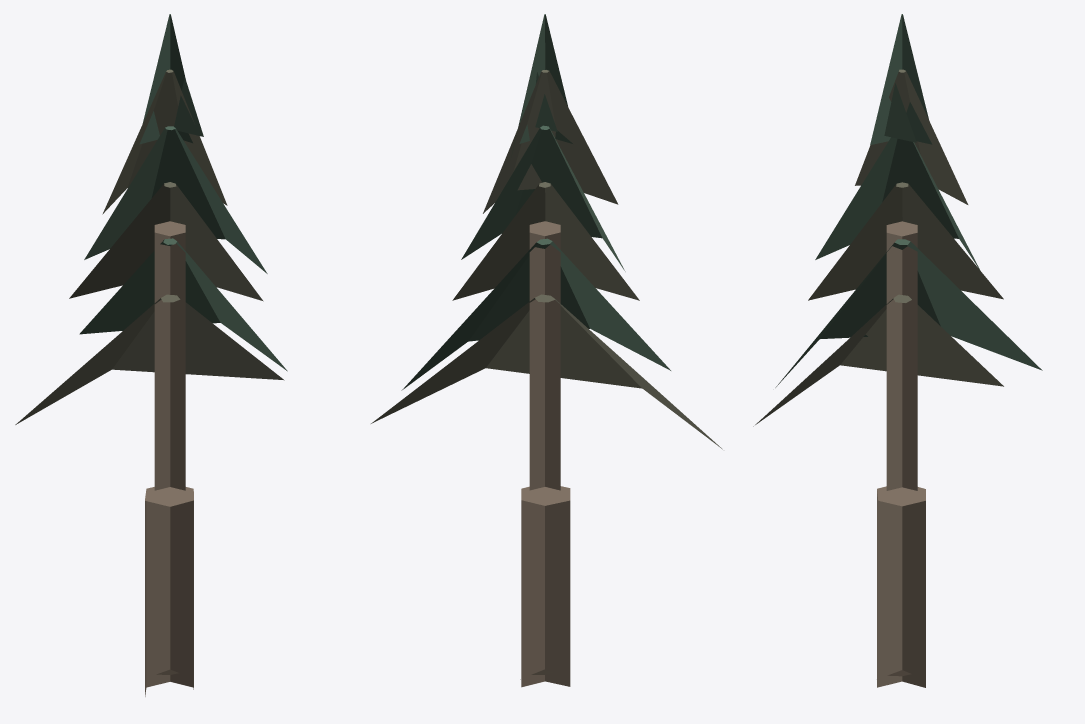
Rendered from shu.masan__winter.glb.
The picture shows the model from 3 angles, left to right: view 1: azimuth 30°, elevation 25°; view 2: azimuth 150°, elevation 25°; view 3: azimuth 270°, elevation 25°; orthographic projection.
Visible parts, largest first — view 1: shu.masan__winter; view 2: shu.masan__winter; view 3: shu.masan__winter.
Part boxes in pixels (x1,y1,x2,y2): shu.masan__winter: (15, 14, 287, 696); shu.masan__winter: (371, 14, 722, 687); shu.masan__winter: (753, 14, 1042, 687).
Size of the model in its own units: 8.49 by 18.78 by 7.95.
